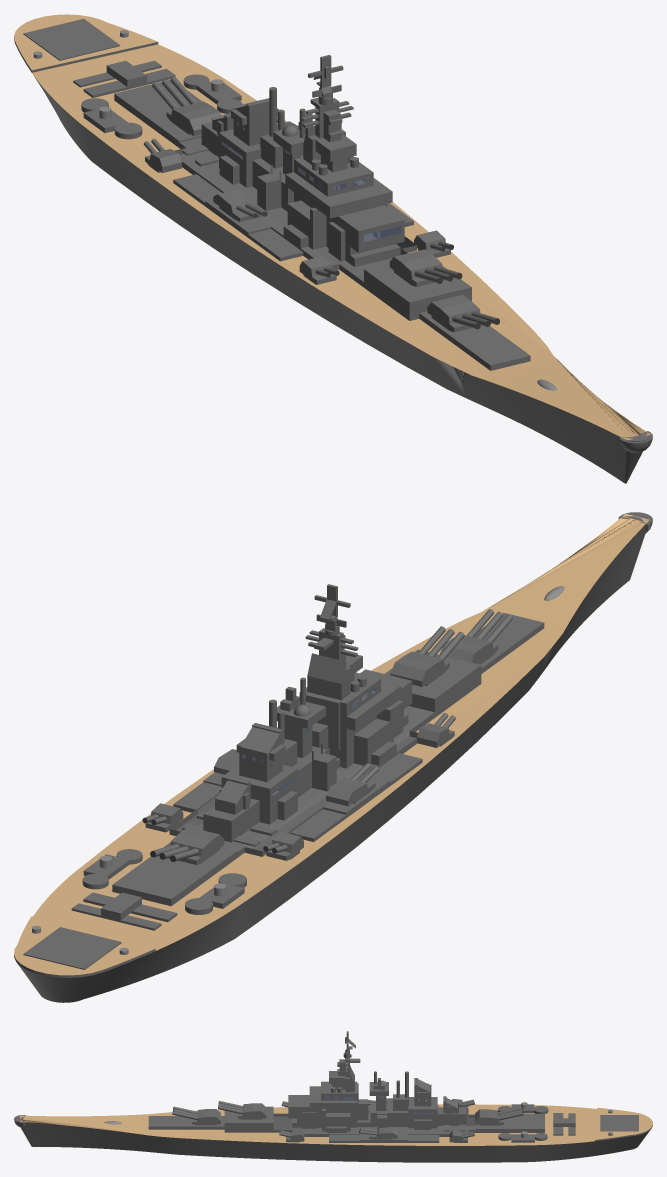
File: Battleship.obj
The picture shows the model from 3 angles, top to bottom: view 1: azimuth 30°, elevation 25°; view 2: azimuth 150°, elevation 25°; view 3: azimuth 270°, elevation 25°; orthographic projection. The views are drawn at different scales.
Parts seen in each view (by area): view 1: Mesh1 Model, Mesh9 Model, Mesh8 Model, Mesh15 Model, Mesh12 Model, Mesh11 Model, Mesh10 Model; view 2: Mesh1 Model, Mesh8 Model, Mesh9 Model, Mesh15 Model, Mesh11 Model, Mesh12 Model, Mesh13 Model; view 3: Mesh1 Model, Mesh8 Model, Mesh9 Model, Mesh14 Model, Mesh10 Model, Mesh13 Model.
Part boxes in pixels (box(x1,y1,x2,y2)): Mesh1 Model: box(14, 14, 651, 483); Mesh9 Model: box(152, 76, 221, 136); Mesh8 Model: box(427, 294, 499, 332); Mesh15 Model: box(213, 189, 267, 221); Mesh12 Model: box(143, 138, 181, 172); Mesh11 Model: box(299, 256, 339, 284); Mesh10 Model: box(414, 230, 453, 257); Mesh1 Model: box(14, 512, 649, 1002); Mesh8 Model: box(439, 609, 512, 664); Mesh9 Model: box(150, 826, 224, 864); Mesh15 Model: box(326, 763, 379, 806); Mesh11 Model: box(417, 713, 455, 747); Mesh12 Model: box(263, 831, 303, 860); Mesh13 Model: box(142, 803, 183, 832); Mesh1 Model: box(15, 1031, 652, 1162); Mesh8 Model: box(172, 1106, 220, 1125); Mesh9 Model: box(475, 1107, 523, 1125); Mesh14 Model: box(359, 1127, 397, 1139); Mesh10 Model: box(279, 1129, 304, 1142); Mesh13 Model: box(449, 1130, 474, 1142).
Size of the model in its own units: 74.88 by 94.98 by 487.
